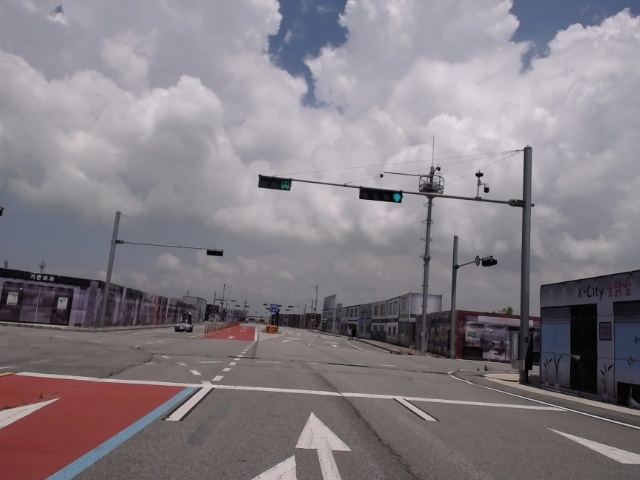straight_green_4: (359, 186, 403, 202)
